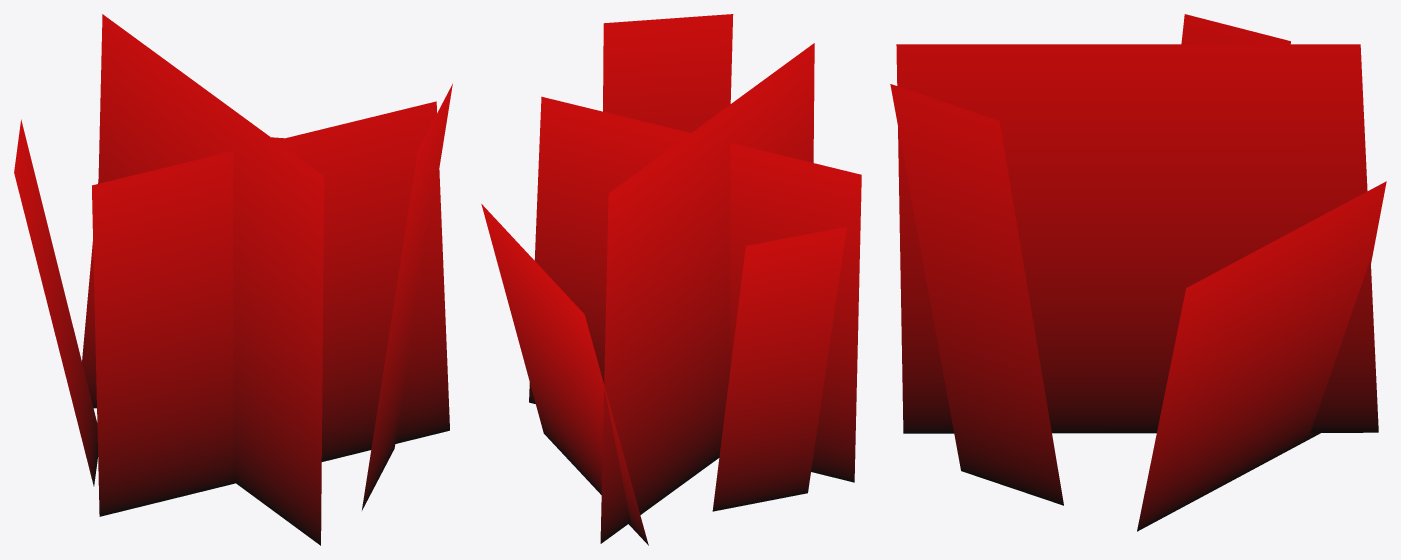
File: herb_02.FBX
3 renders of one model, left to right at view 1: azimuth 30°, elevation 25°; view 2: azimuth 150°, elevation 25°; view 3: azimuth 270°, elevation 25°, orthographic. The views are drawn at different scales.
Parts seen in each view (by area): view 1: herb_02_LOD0; view 2: herb_02_LOD0; view 3: herb_02_LOD0.
Boxes of the visible parts, x1,y1,x2,y2 form: herb_02_LOD0: [14, 14, 452, 545]; herb_02_LOD0: [481, 14, 861, 545]; herb_02_LOD0: [890, 14, 1386, 531].
Size of what is drawn, in the model's own units: 42.84 by 40.97 by 44.8.
